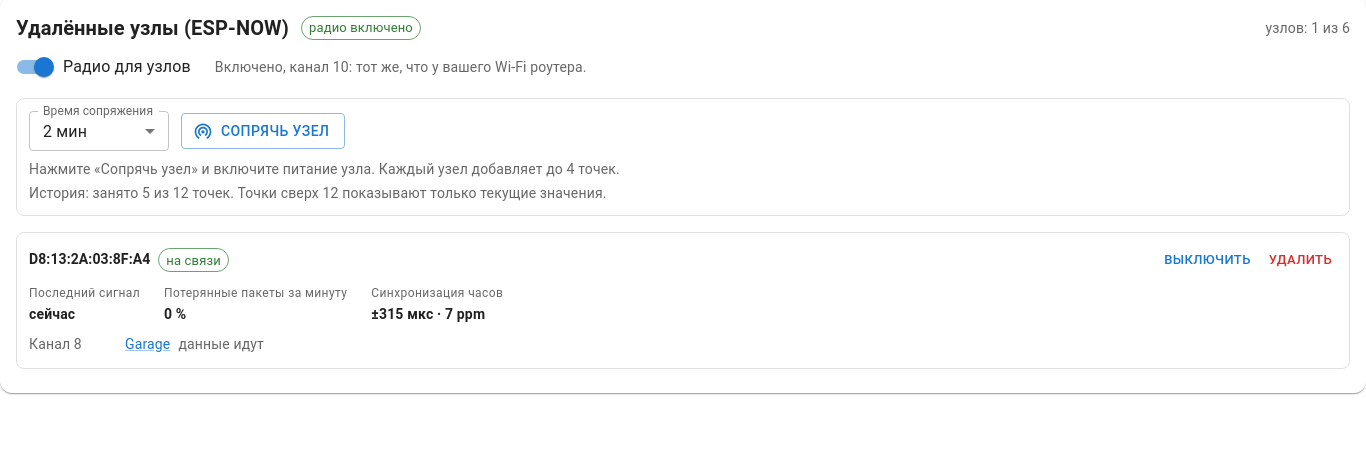
Test: NodesPanel (fw 1.1.7, root espnow-nodes-ui) › pair sends the chosen window; a 409 ESPNOW_DISABLED reads «turn the radio on»
The width and height of the screenshot is (1366, 476).
Step 1. Click the button "Сопрячь узел" → (263, 131), box [181,113,345,149]
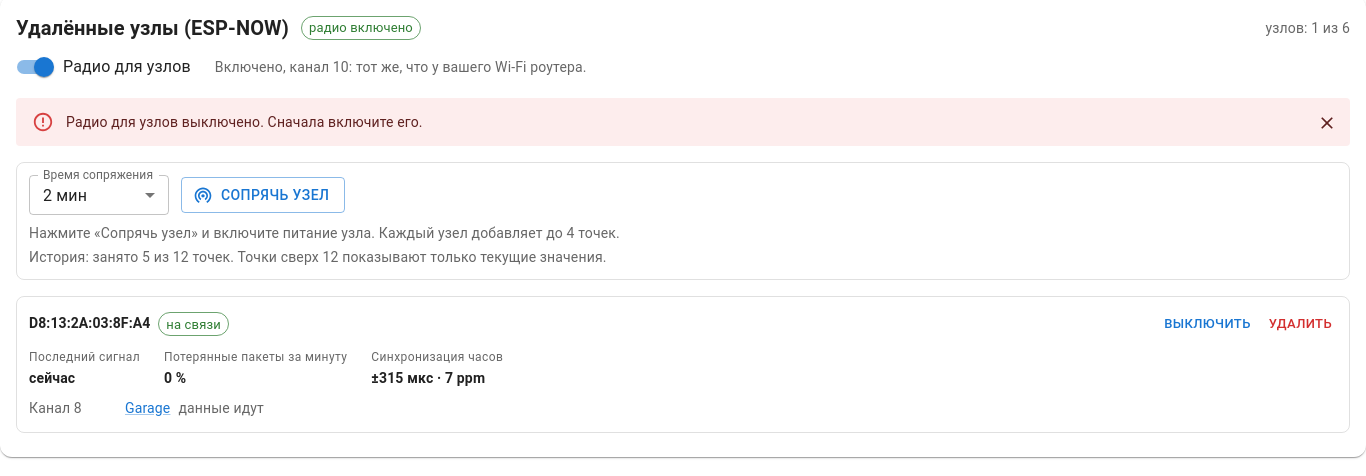
Expected: the text "Радио для узлов выключено. Сначала включите его." is shown, [66,114,423,130]
